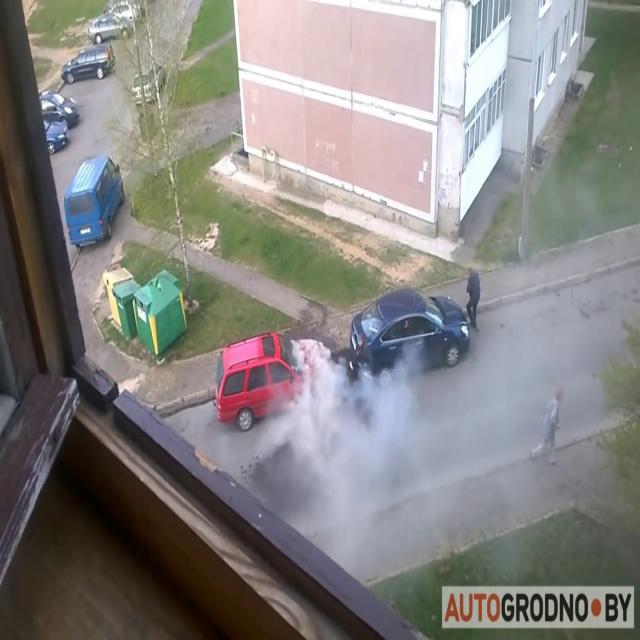Smoke: (280, 320, 432, 570)
